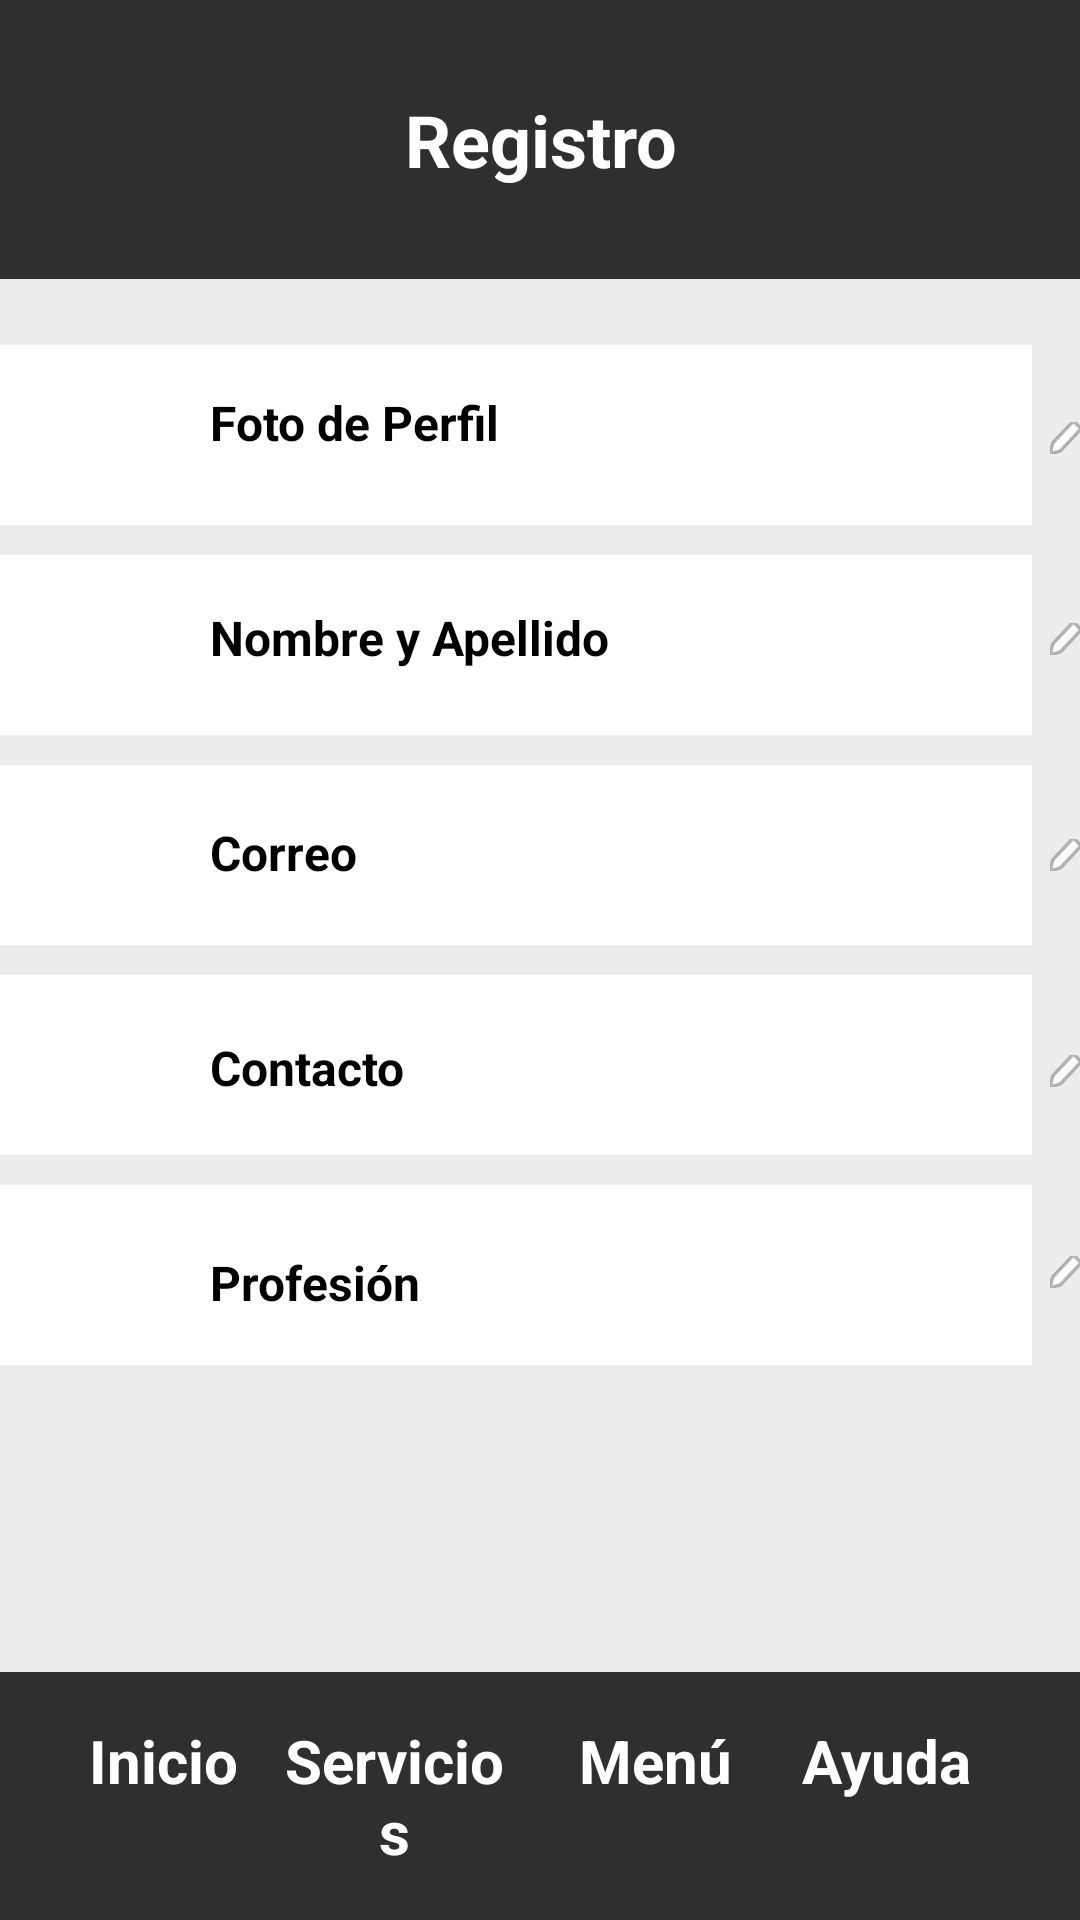

Named icons in this screenshot (1080w x 1920h) and their centers, (x=x, y=y):
pencil: (x=1065, y=438), (x=1065, y=639), (x=1065, y=855), (x=1065, y=1071), (x=1065, y=1272)
